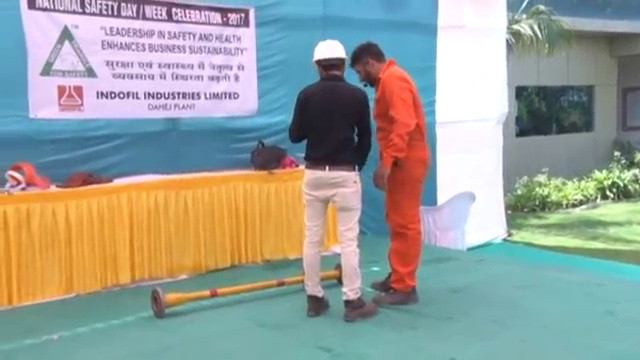helmet: (313, 39, 349, 65)
helmet_off: (349, 40, 386, 90)
helmet_on: (311, 38, 349, 84)
person: (286, 37, 379, 319), (350, 37, 431, 308)
